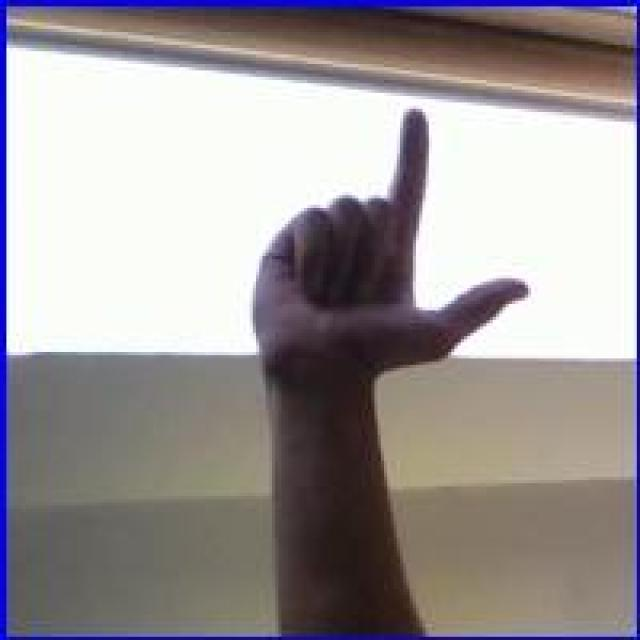L: (250, 100, 531, 406)
